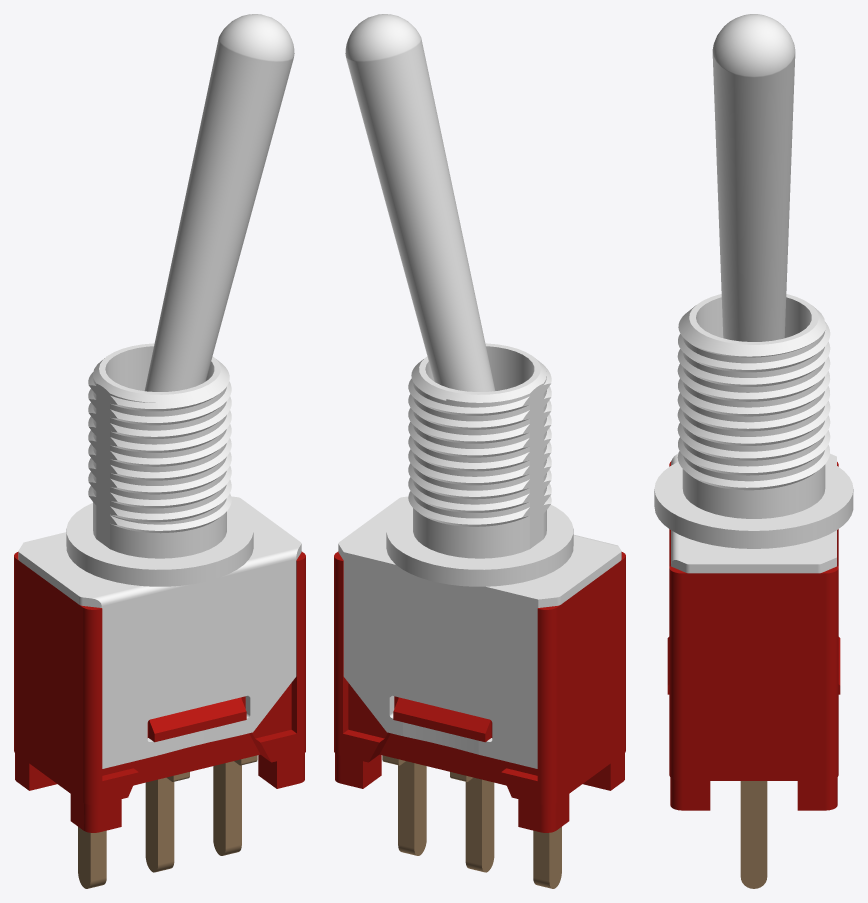
The model's file is switch_toggle_sub-mini_SPDT_onoff_long_lever.glb.
The picture shows the model from 3 angles, left to right: view 1: azimuth 30°, elevation 25°; view 2: azimuth 150°, elevation 25°; view 3: azimuth 270°, elevation 25°; orthographic projection. The views are drawn at different scales.
Parts seen in each view (by area): view 1: Solid2, Solid1, Solid5, Solid3; view 2: Solid2, Solid1, Solid5, Solid3; view 3: Solid2, Solid1, Solid5, Solid3.
Part boxes in pixels (left/top/right/bottom): Solid2: left=18, top=343, right=301, bottom=768; Solid1: left=14, top=551, right=305, bottom=832; Solid5: left=144, top=14, right=294, bottom=391; Solid3: left=78, top=755, right=257, bottom=888; Solid2: left=338, top=343, right=621, bottom=768; Solid1: left=334, top=551, right=625, bottom=832; Solid5: left=345, top=14, right=495, bottom=391; Solid3: left=382, top=755, right=561, bottom=888; Solid2: left=654, top=294, right=853, bottom=573; Solid1: left=667, top=461, right=840, bottom=810; Solid5: left=712, top=14, right=795, bottom=341; Solid3: left=740, top=781, right=767, bottom=888.
Bounding box in the file's own units: 0.00888 × 0.0293 × 0.006.
